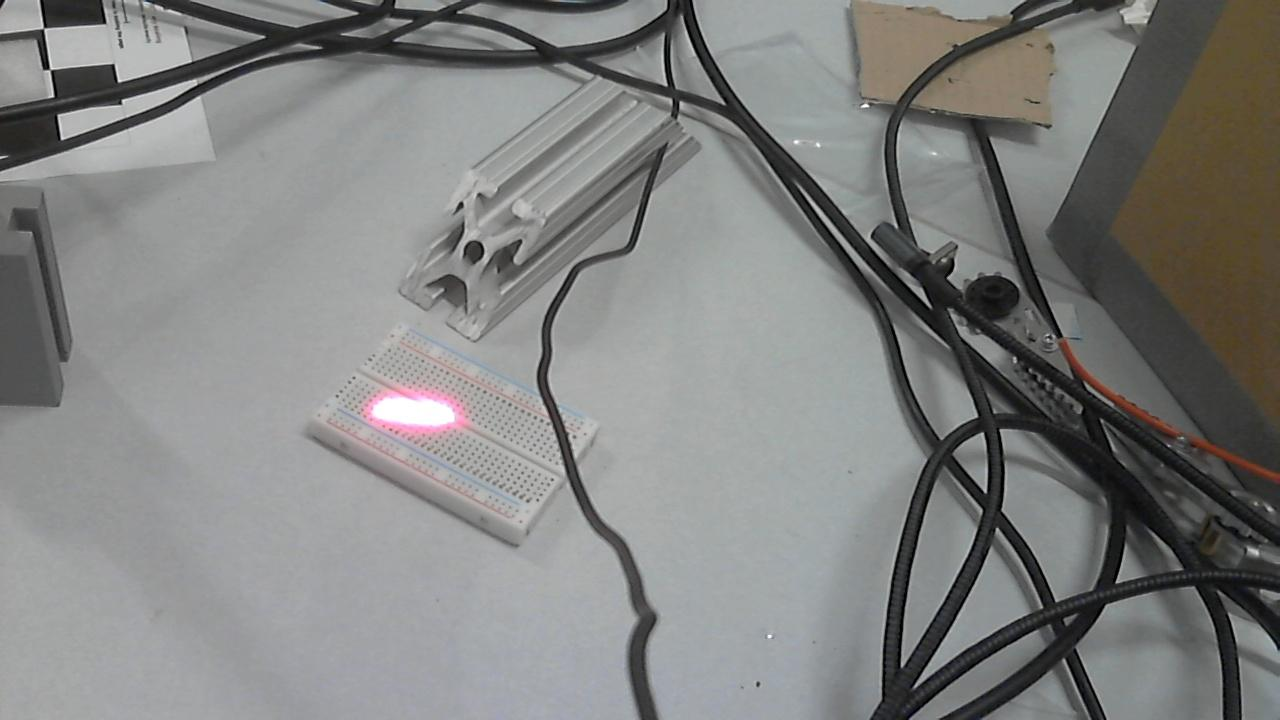Object breadboard - Material plastic - Color white - Pdfname UT1NgGrFNbGM: (360, 383, 470, 437)
